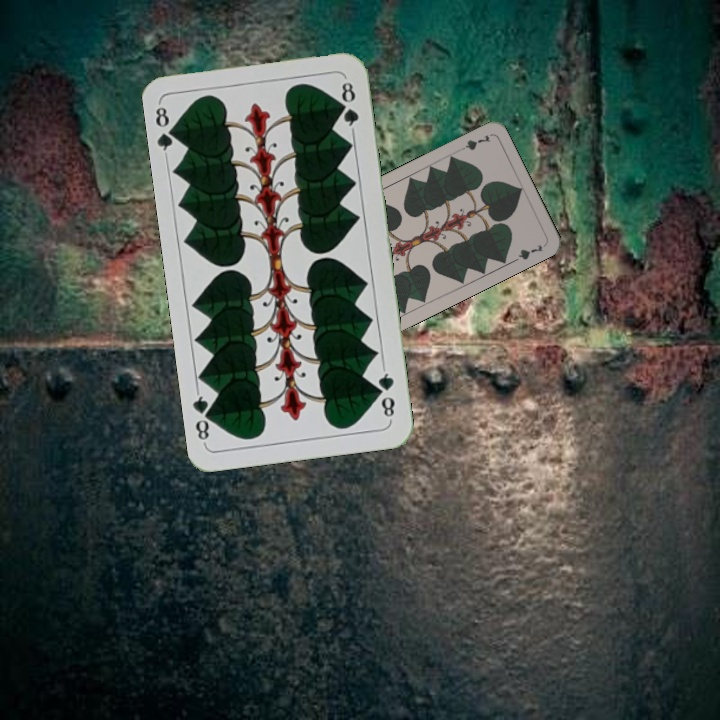G7: (454, 130, 493, 154)
G8: (151, 100, 181, 159), (373, 364, 398, 423)
